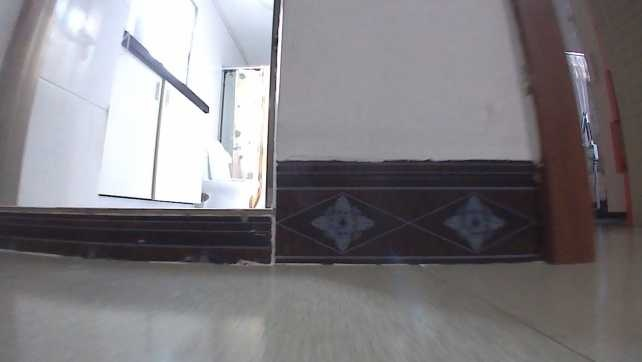door_sill: (0, 205, 272, 265)
toilet: (203, 134, 258, 209)
